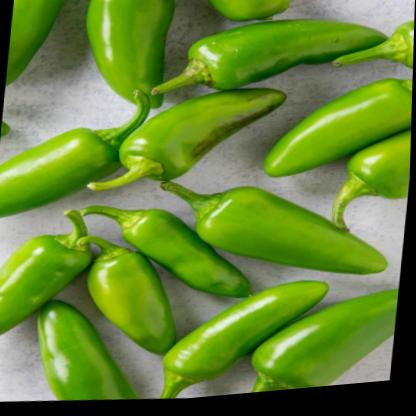chilli_pepper: (143, 163, 401, 298), (84, 72, 292, 212), (150, 4, 395, 121), (144, 272, 339, 405), (0, 198, 99, 360)
